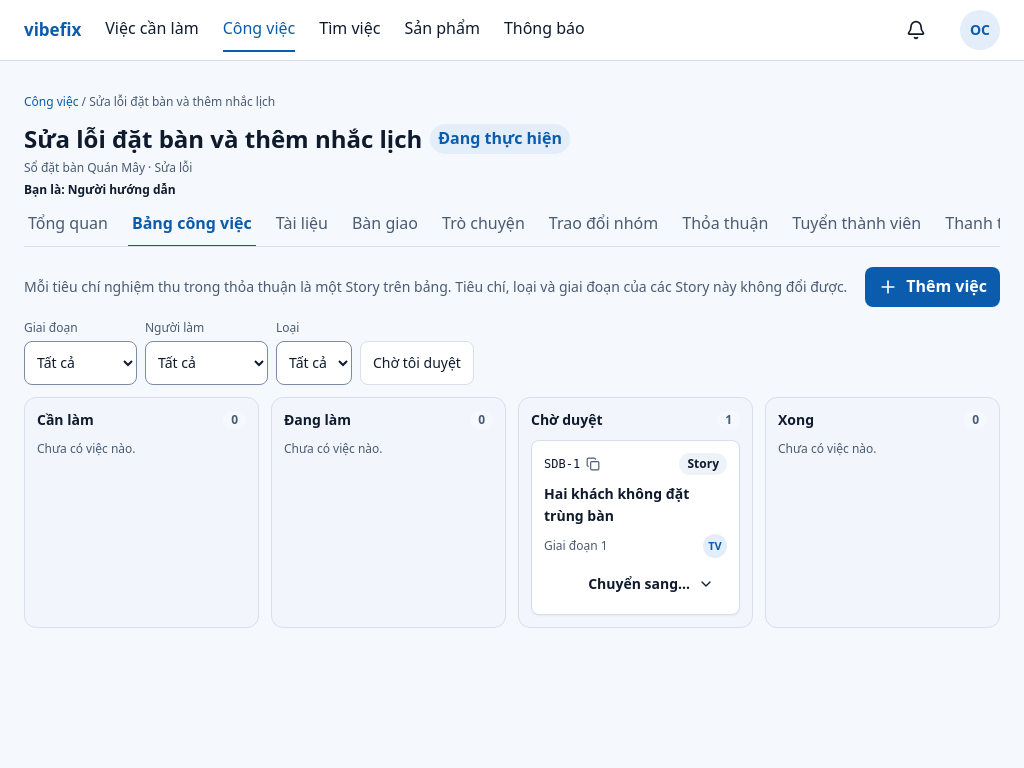
The Review Gate on JOB-2 (FR-25, AD-39, UX-DR38) › shows a refusal inline in the Review dialog
Click the button with aria-label "Chuyển SDB-1 sang…".
click(651, 584)  # box [575,566,727,602]
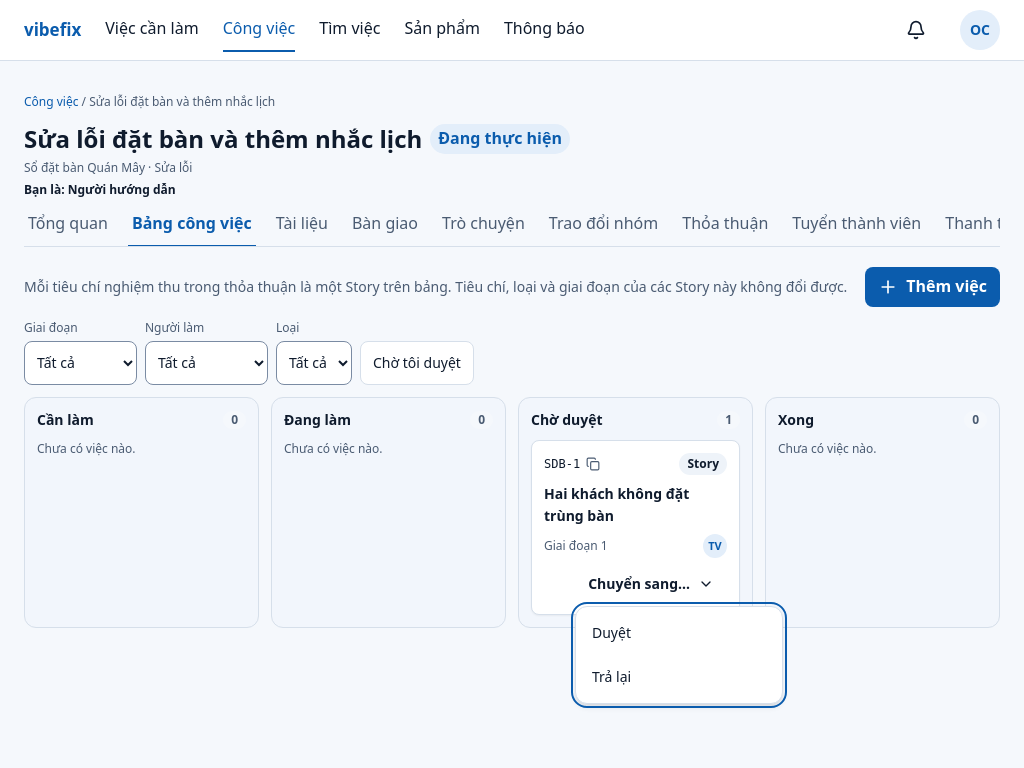
Click the menu item "Duyệt".
click(612, 633)  # box [592,623,631,642]
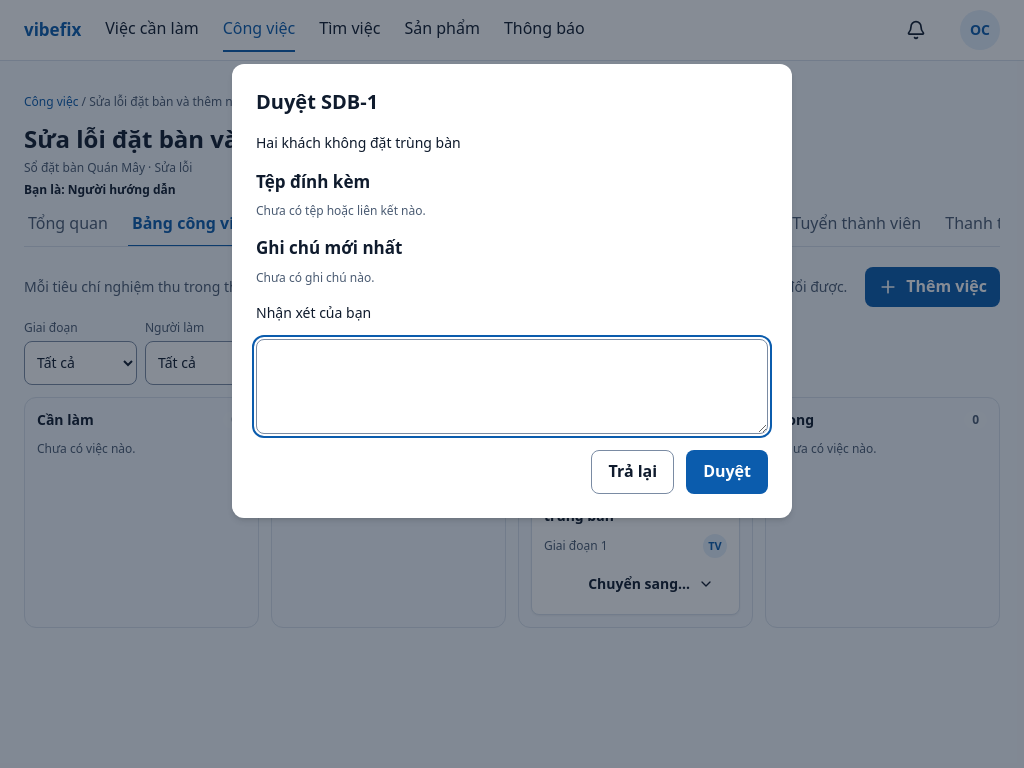
Type "Đạt" into the text box labelled "Nhận xét của bạn".
click(512, 387); type("Đạt")  # box [256,339,768,434]
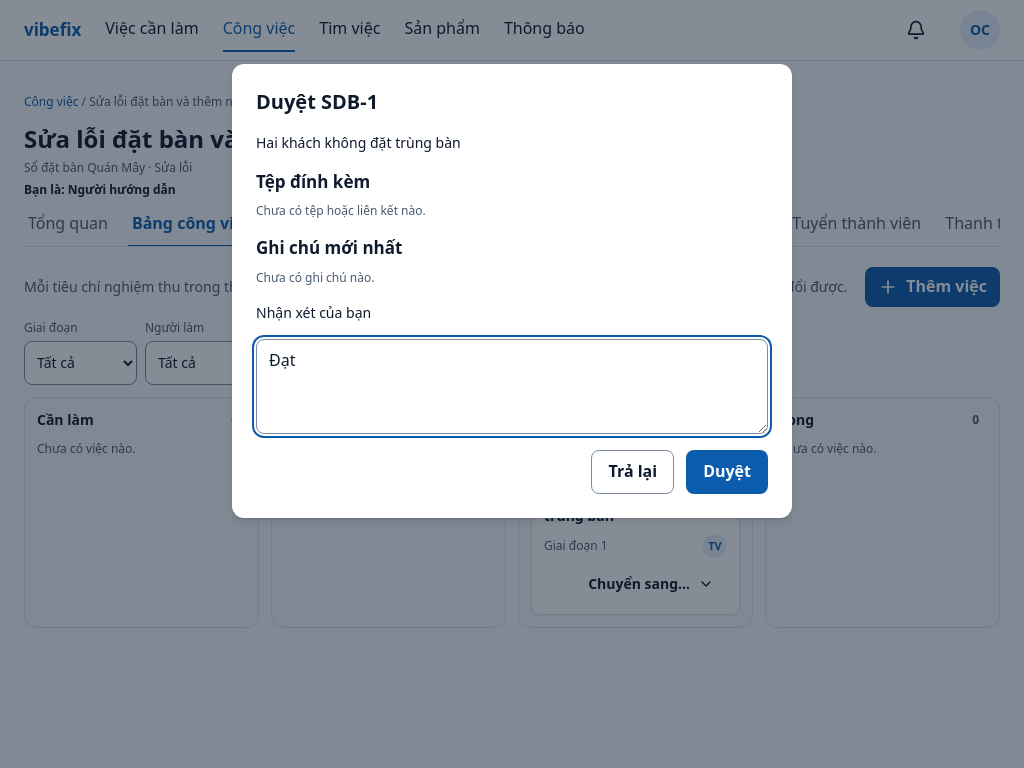
Click the button "Duyệt".
click(727, 472)  # box [686,450,768,494]
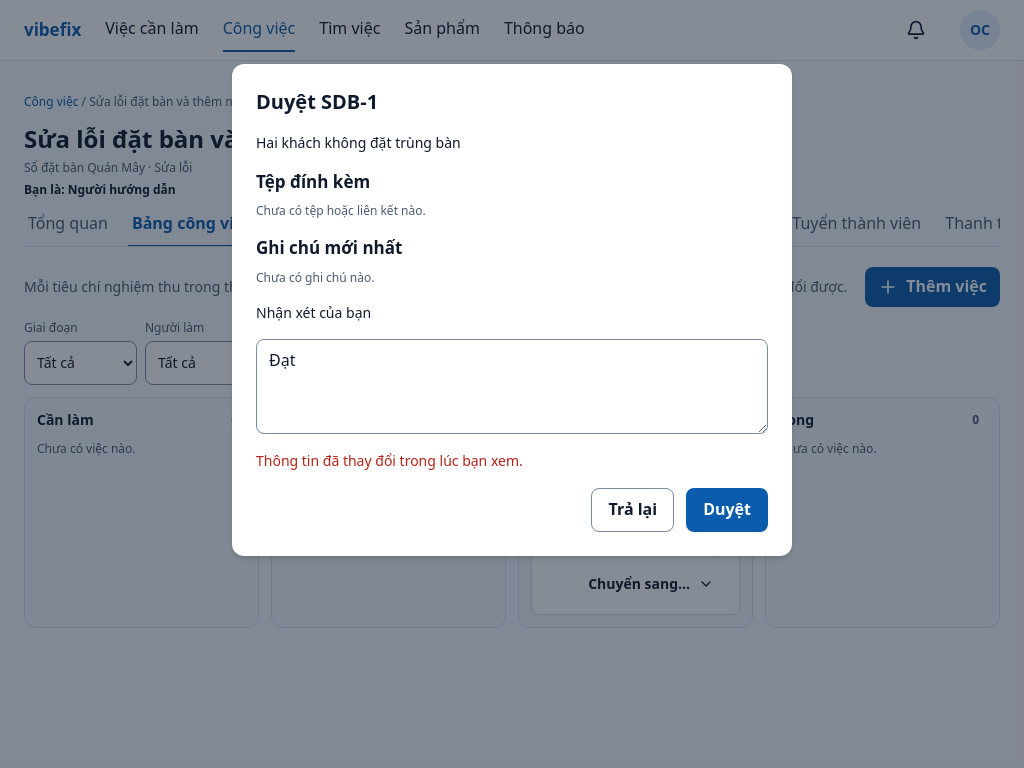
Result: the message reads "Thông tin đã thay đổi trong lúc bạn xem." at [256,451,523,470]
